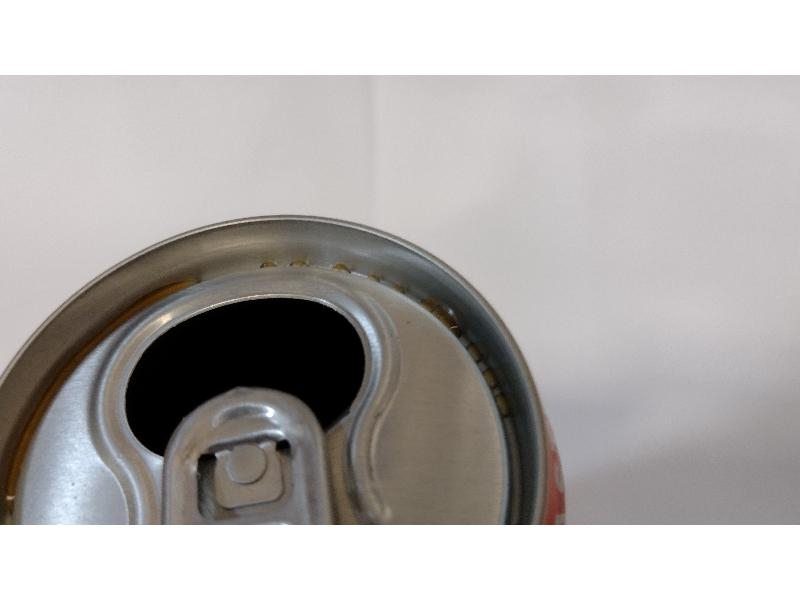can: (2, 216, 572, 523)
